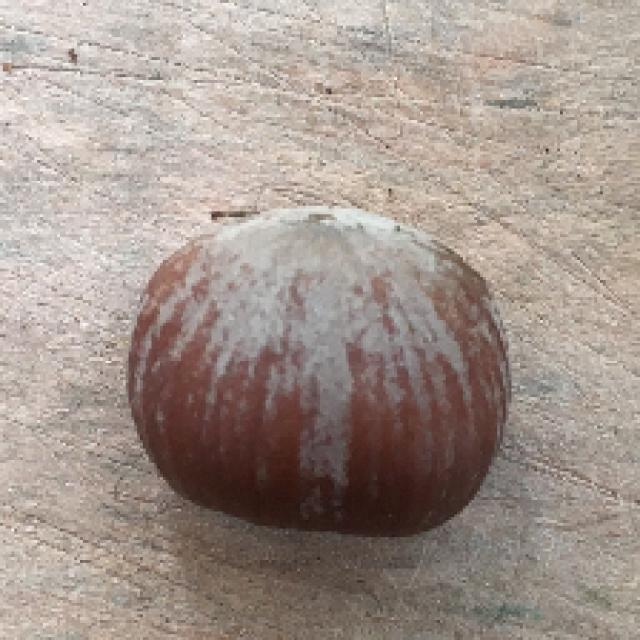qualityHazelnut: (132, 203, 516, 543)
